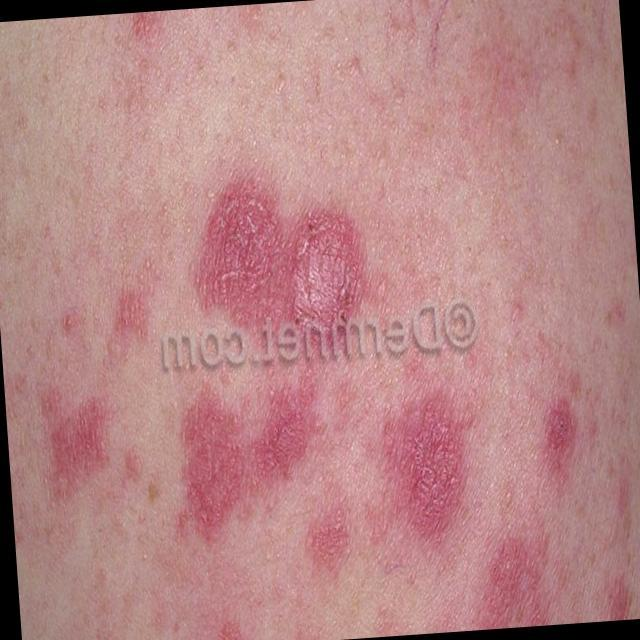Eczema: (36, 178, 591, 640)
